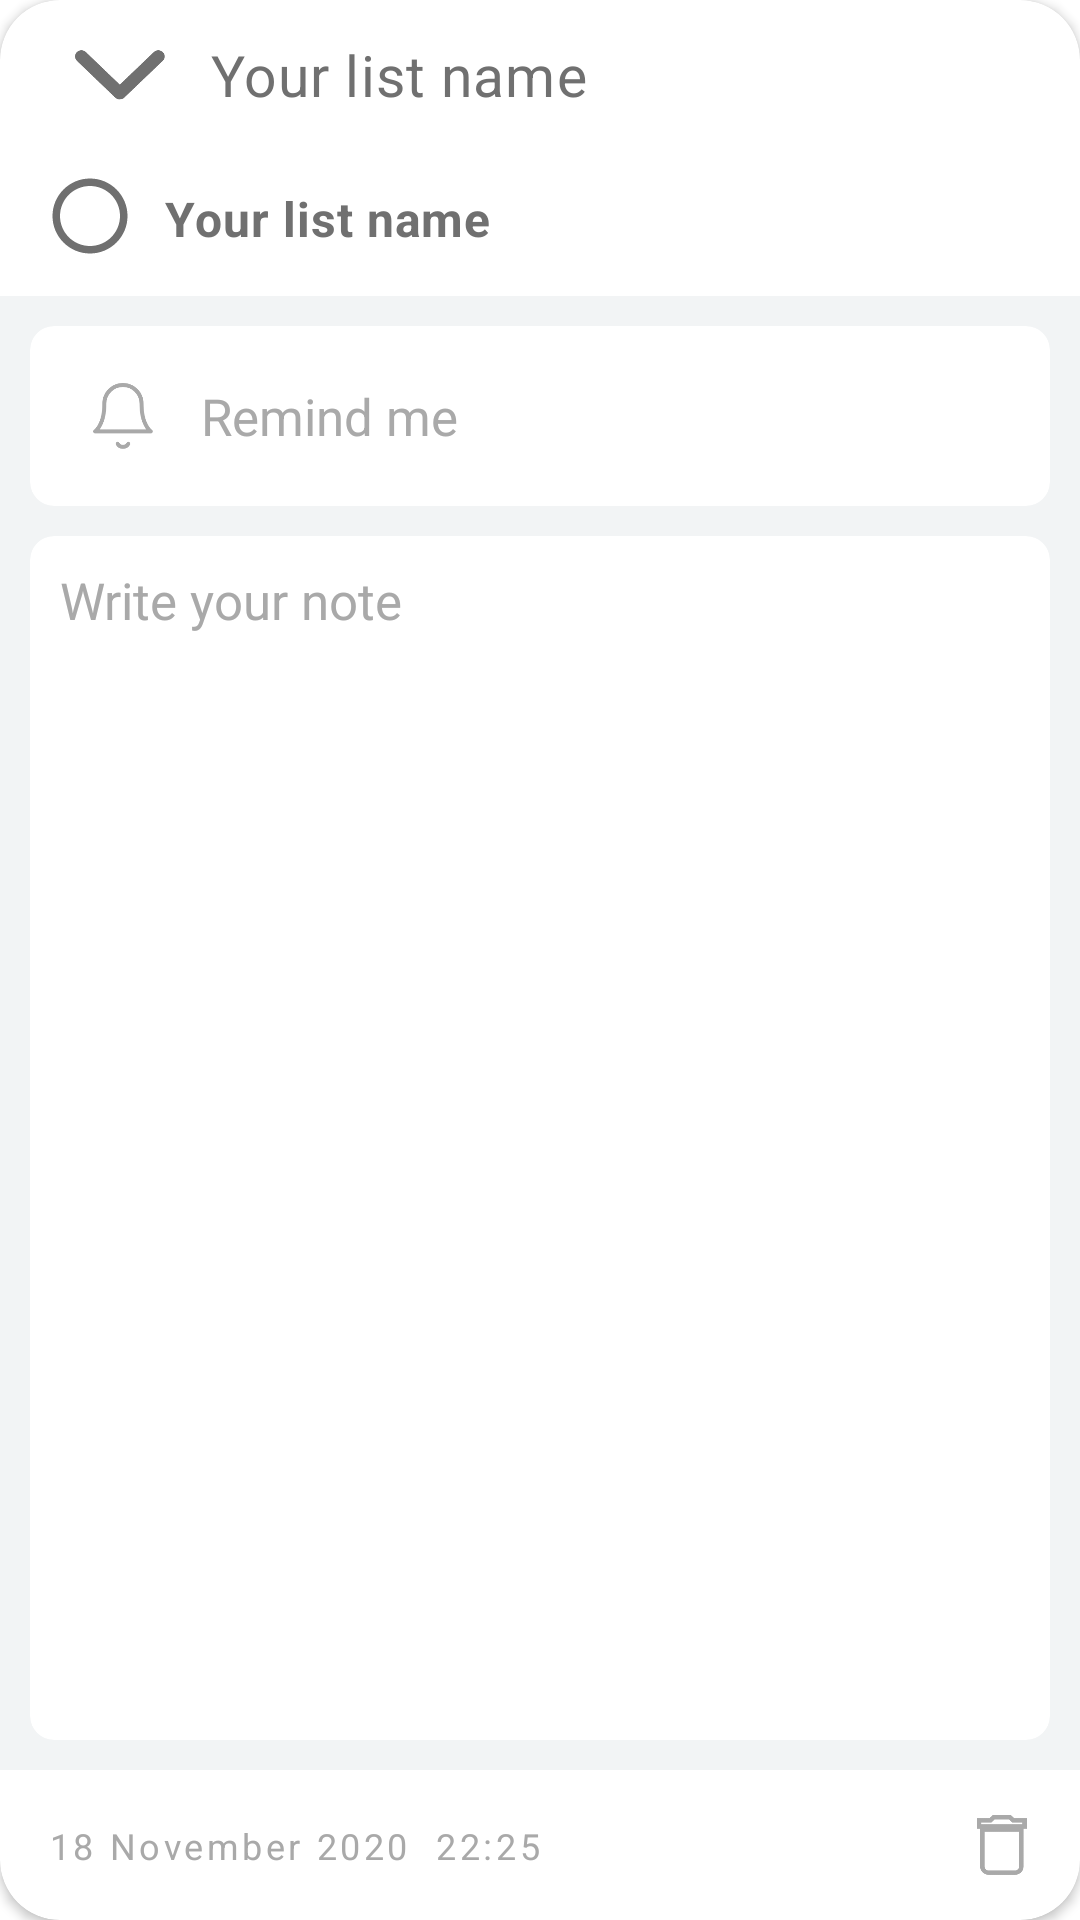

Where icons sit on this 1080 × 1920 app screen, as (x1, y1, x2, y2):
bell: (93, 383, 153, 449)
custom check box: (52, 178, 128, 254)
delete: (977, 1815, 1027, 1875)
down: (75, 50, 165, 100)
